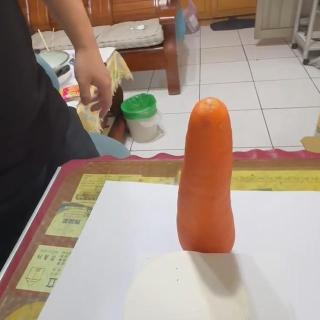carrot: (174, 96, 234, 252)
